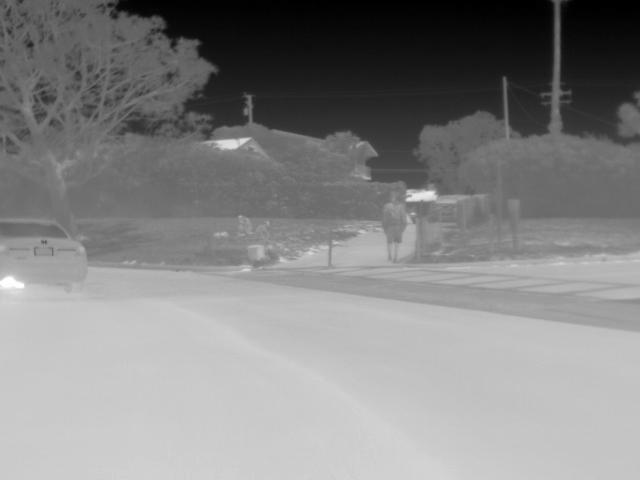car: (3, 218, 87, 294), (429, 192, 468, 224)
person: (380, 190, 408, 264), (236, 212, 254, 238), (254, 219, 273, 241)
